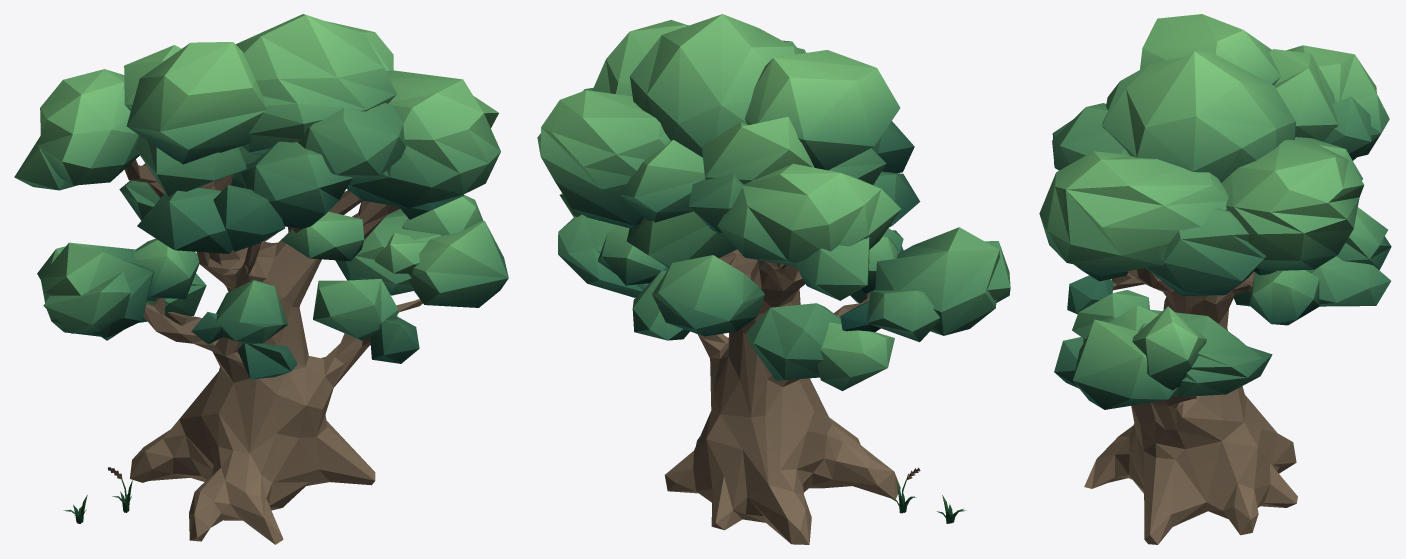
Rendered from TREE.glb.
The picture shows the model from 3 angles, left to right: view 1: azimuth 30°, elevation 25°; view 2: azimuth 150°, elevation 25°; view 3: azimuth 270°, elevation 25°; orthographic projection.
Parts seen in each view (by area): view 1: plant.006; view 2: plant.006; view 3: plant.006.
Part boxes in pixels (left/top/right/bottom): plant.006: left=14, top=14, right=508, bottom=544; plant.006: left=537, top=14, right=1010, bottom=544; plant.006: left=1039, top=14, right=1391, bottom=544.
Bounding box in the file's own units: 10.82 × 11.01 × 7.36.
1 material, 1 textured.
